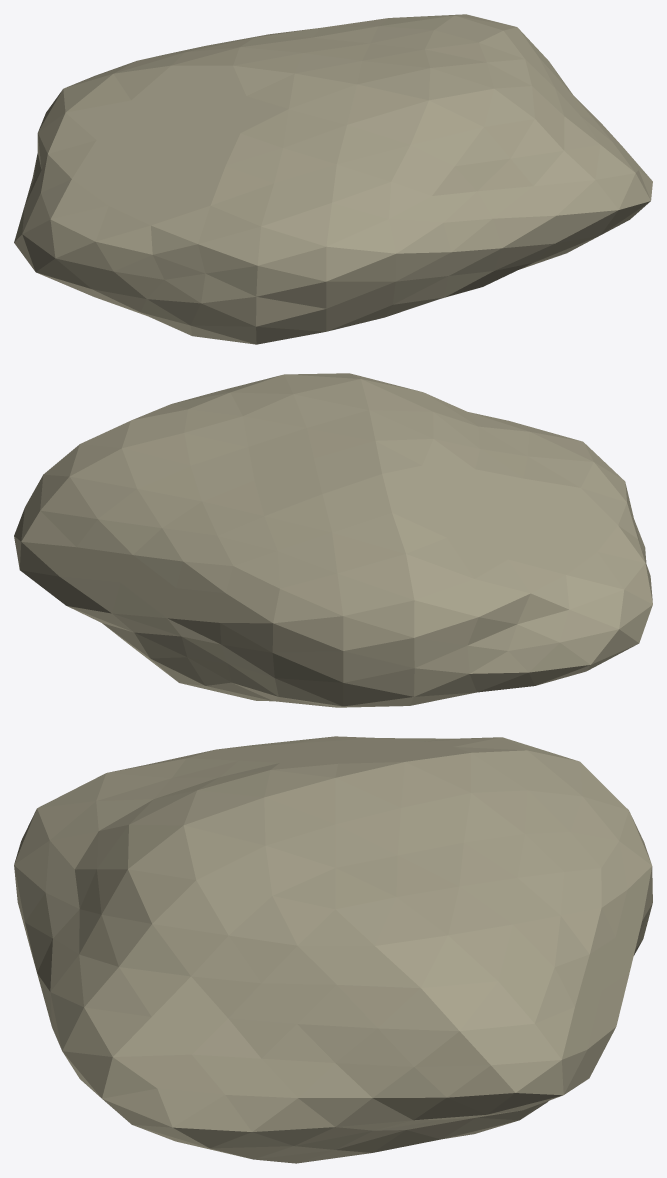
Rendered from rock-slab.gltf.
3 views of the same model, one above another, from view 1: azimuth 30°, elevation 25°; view 2: azimuth 150°, elevation 25°; view 3: azimuth 270°, elevation 25° (orthographic). The views are drawn at different scales.
Parts seen in each view (by area): view 1: rock-slab; view 2: rock-slab; view 3: rock-slab.
Boxes of the visible parts, x1,y1,x2,y2 form: rock-slab: [14, 14, 652, 344]; rock-slab: [14, 373, 652, 707]; rock-slab: [14, 736, 652, 1163].
Bounding box in the file's own units: 2.02 × 0.7564 × 1.58.
